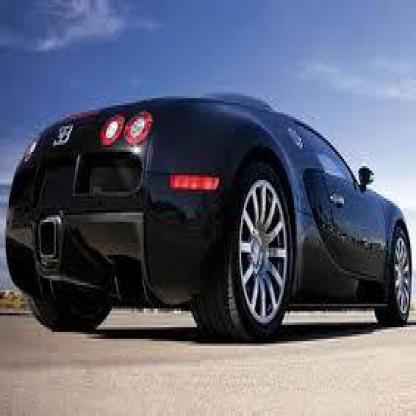Vehicle: (6, 96, 413, 346)
